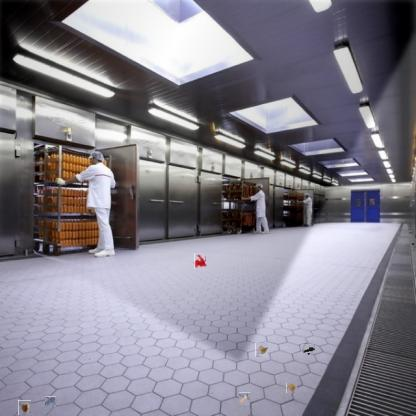dirty: (18, 400, 31, 415), (255, 343, 268, 357), (238, 392, 250, 405), (302, 342, 314, 354), (287, 383, 297, 394)
liquid: (193, 255, 207, 268), (44, 396, 56, 407)
